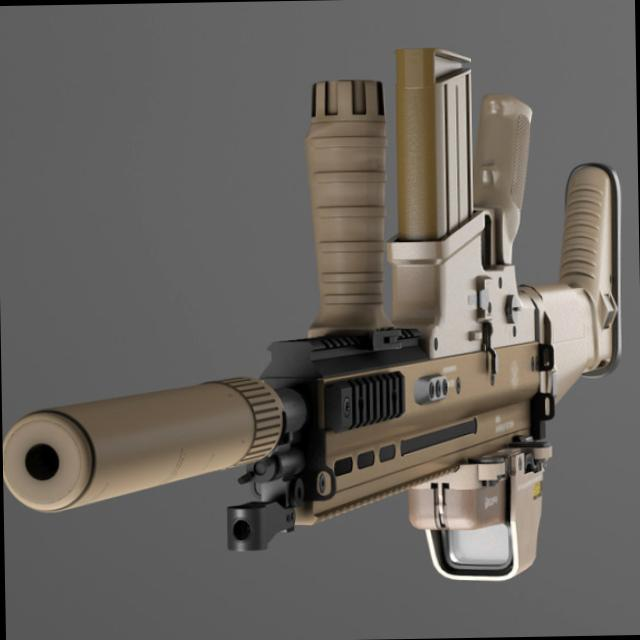Gun: (0, 22, 640, 628)
